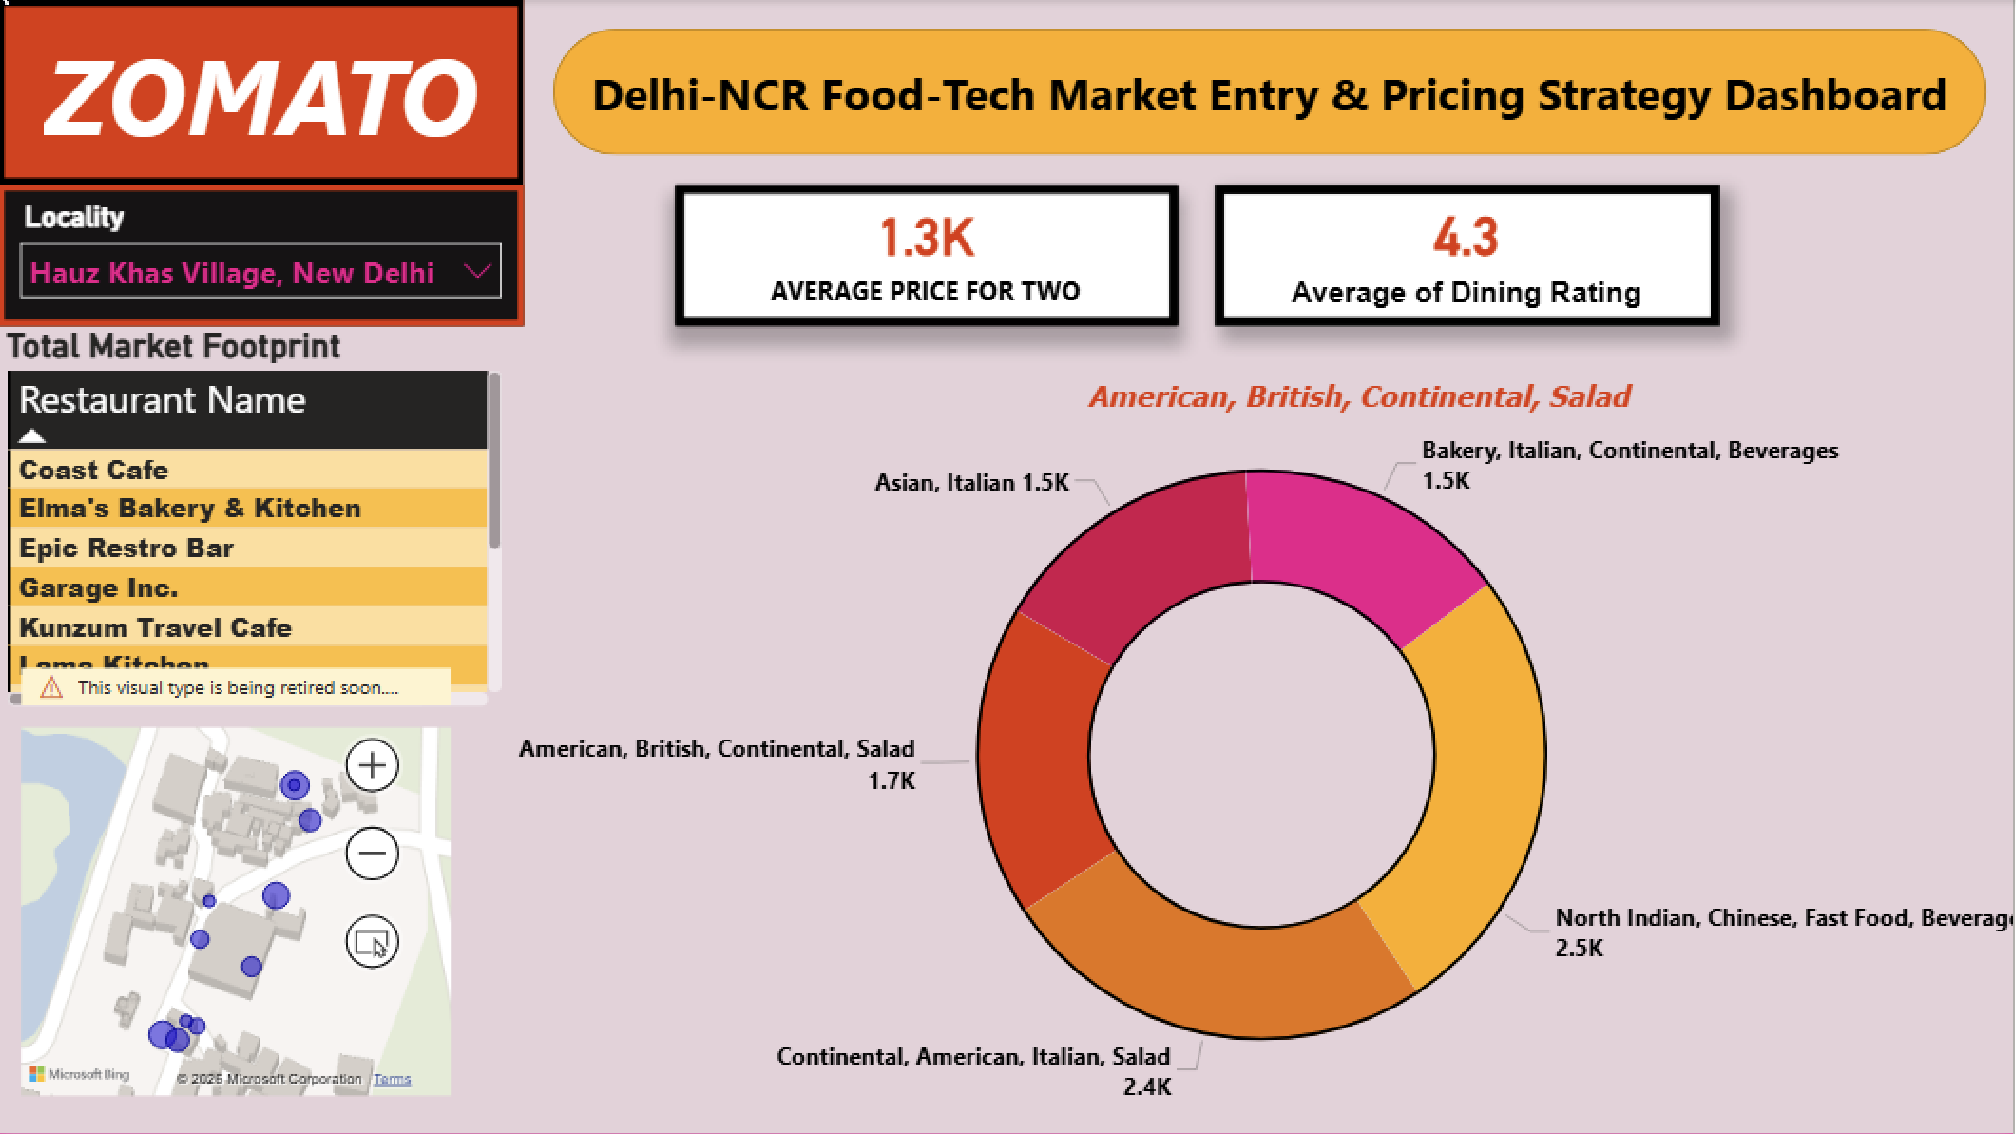

Layout of this report page (visuals, bound fields, positions):
{"tool":"powerbi","page":{"name":"Page 1","canvas":[1280,720],"ordinal":0},"visuals":[{"type":"shape","box":[0,0,334.1,117],"z":0},{"type":"shape","box":[352.4,18.3,910.7,80.4],"z":1000},{"type":"advanceCardE03760C5AB684758B56AA29F9E6C257B","fields":{"mainMeasure":["Avg(PowerBI_Master_Final.Pricing_for_2)"]},"box":[429.4,116.6,320,90.4],"z":2000},{"type":"advanceCardE03760C5AB684758B56AA29F9E6C257B","fields":{"mainMeasure":["Avg(PowerBI_Master_Final.Dining_Rating)"]},"box":[773.2,116.6,321.2,90.4],"z":3000},{"type":"tableEx","title":"Total Market Footprint","fields":{"Values":["PowerBI_Master_Final.Restaurant_Name"]},"box":[0,207,324.8,247.4],"z":4000},{"type":"slicer","fields":{"Values":["PowerBI_Master_Final.Locality"]},"box":[0,116.6,334.3,90.4],"z":5000},{"type":"map","title":"Sum of Dining Review_Count by Latitude and Longitude","fields":{"Y":["PowerBI_Master_Final.Latitude"],"X":["PowerBI_Master_Final.Longitude"],"Size":["Sum(PowerBI_Master_Final.Dining_Review_Count)"]},"box":[9.9,418.7,283.3,283.3],"z":7000},{"type":"donutChart","fields":{"Y":["Avg(PowerBI_Master_Final.Pricing_for_2)"],"Category":["PowerBI_Master_Final.Category"]},"box":[324.2,239.6,955.8,480.7],"z":9000},{"type":"advanceCardE03760C5AB684758B56AA29F9E6C257B","fields":{"mainMeasure":["Min(PowerBI_Master_Final.Category)"]},"box":[568.1,207.2,597.7,88.8],"z":10000}]}

Visuals, with their boxes in screenshot pixels (x1, y1, x2, y2), scaled from the page's 1280x720 canvas onto the 2016x1134 screenshot:
shape: rect(0, 0, 526, 184)
shape: rect(555, 29, 1989, 155)
advanceCardE03760C5AB684758B56AA29F9E6C257B - Avg(PowerBI_Master_Final.Pricing_for_2): rect(676, 184, 1180, 326)
advanceCardE03760C5AB684758B56AA29F9E6C257B - Avg(PowerBI_Master_Final.Dining_Rating): rect(1218, 184, 1724, 326)
"Total Market Footprint" tableEx: rect(0, 326, 512, 716)
slicer - PowerBI_Master_Final.Locality: rect(0, 184, 527, 326)
"Sum of Dining Review_Count by Latitude and Longitude" map: rect(16, 659, 462, 1106)
donutChart - Avg(PowerBI_Master_Final.Pricing_for_2) x PowerBI_Master_Final.Category: rect(511, 377, 2015, 1133)
advanceCardE03760C5AB684758B56AA29F9E6C257B - Min(PowerBI_Master_Final.Category): rect(895, 326, 1836, 466)
